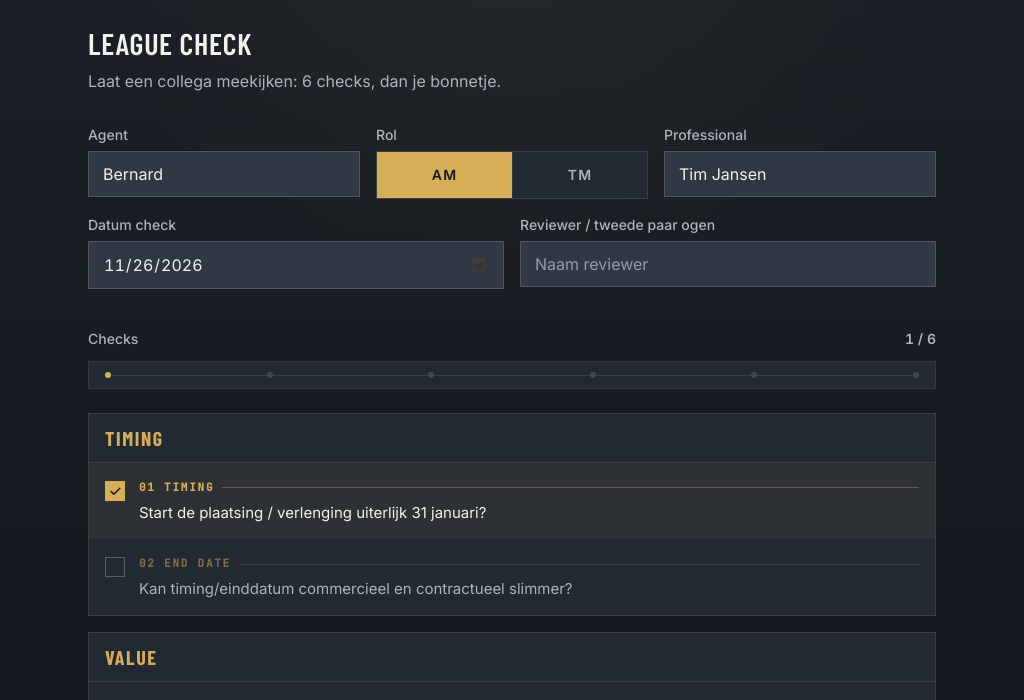
Test case: LeagueCheckPage — the receipt button is never gated on checked count › 6/6: the button reads Mission Approved — View Receipt, is enabled, and opens an Approved receipt
Earlier steps of the test are not shown.
Click the checkbox with id "end-date": (339, 577) top-left (105, 556), bottom-right (572, 598)
(page scrolled)
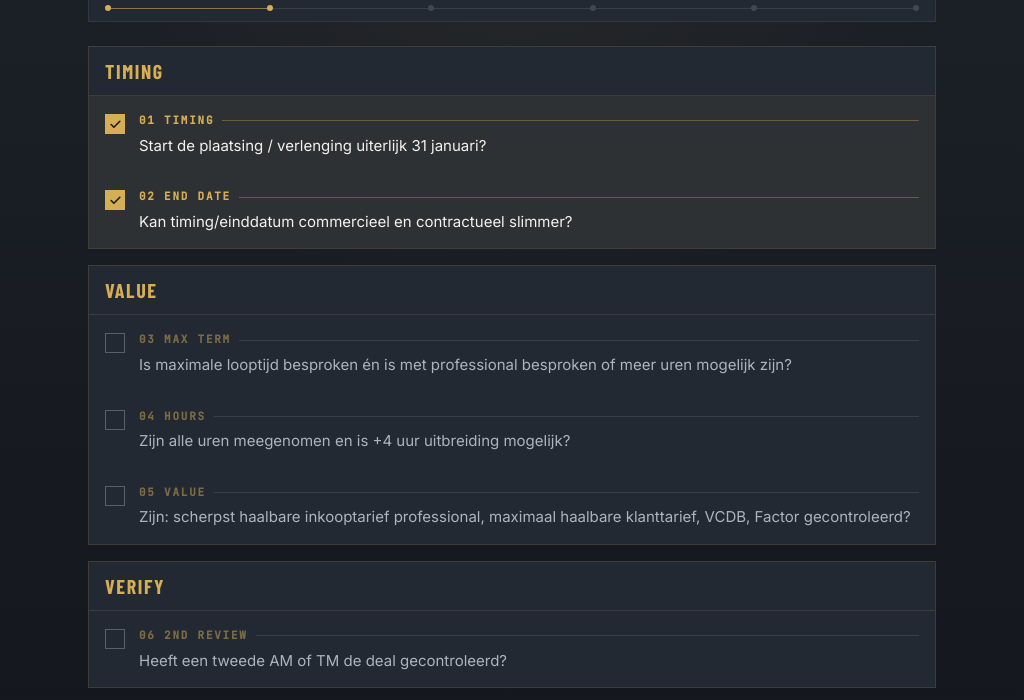
Click the checkbox with id "max-term": (448, 353) top-left (105, 332), bottom-right (792, 374)
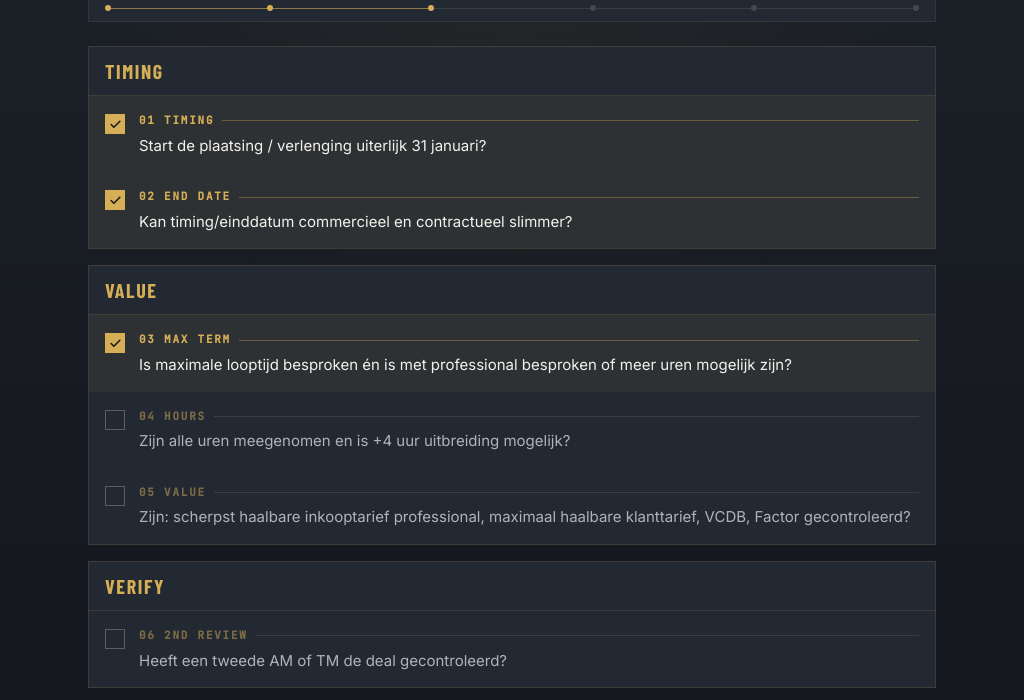
Click the checkbox with id "hours": (338, 430) top-left (105, 409), bottom-right (570, 450)
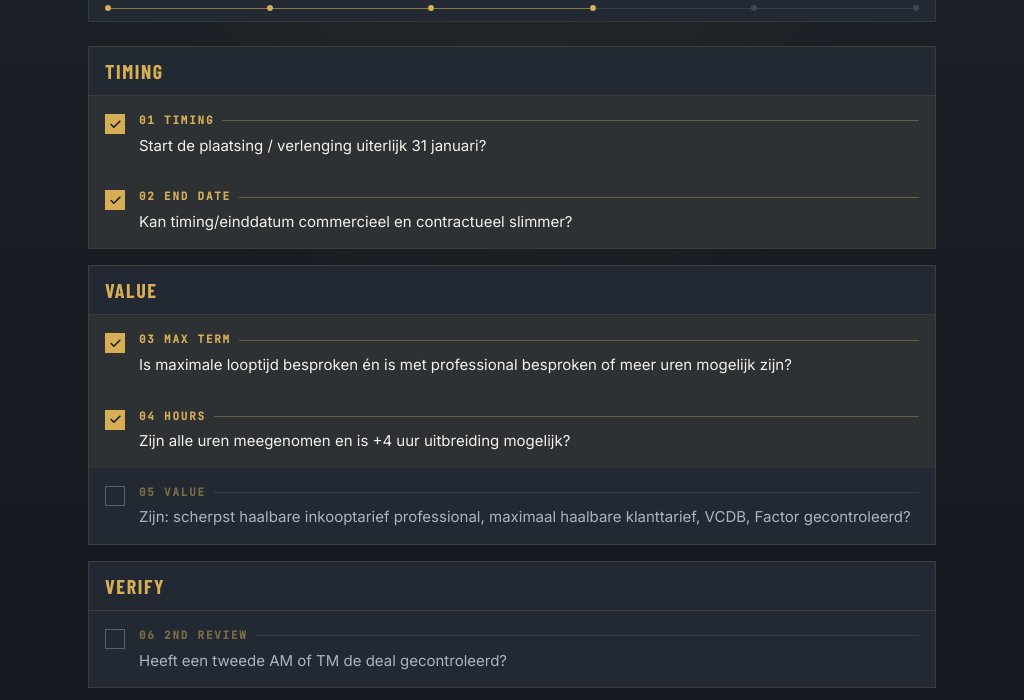
Click the checkbox that starts with "05 VALUE": (508, 506) top-left (105, 485), bottom-right (911, 526)
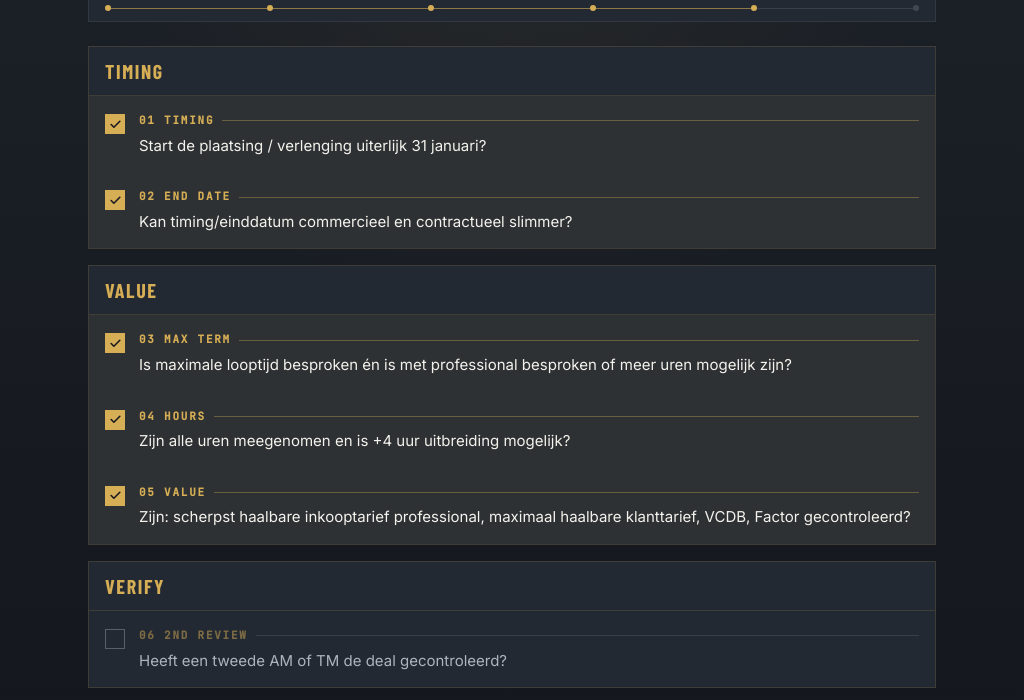
Click the checkbox with id "second-review": (306, 649) top-left (105, 628), bottom-right (507, 670)
(page scrolled)
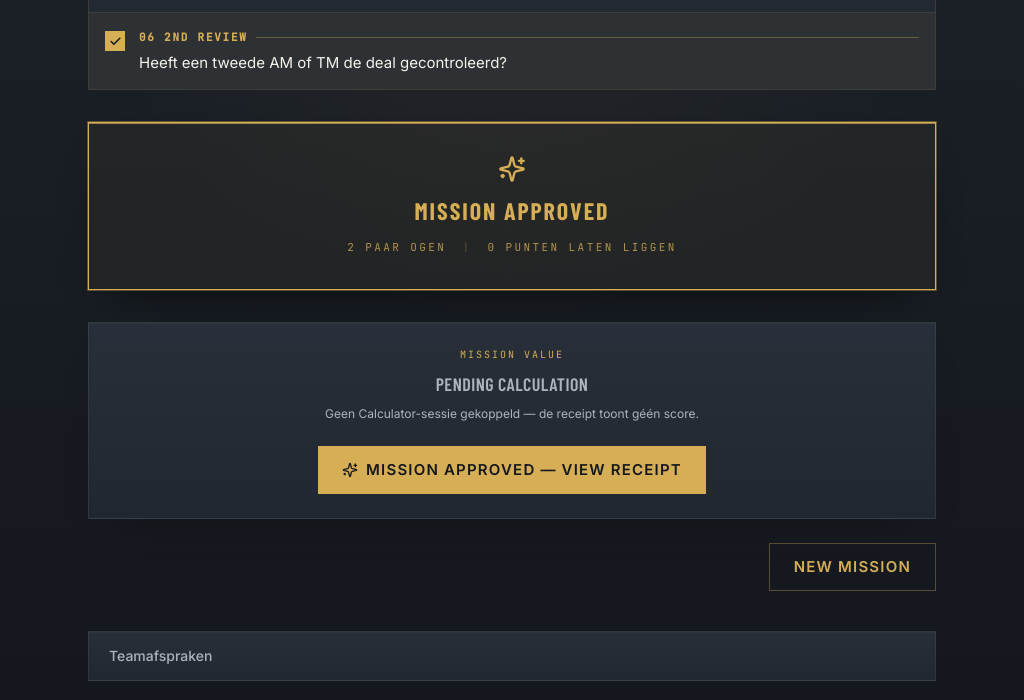
Click the button "Mission Approved — View Receipt": (512, 470) top-left (318, 446), bottom-right (706, 494)
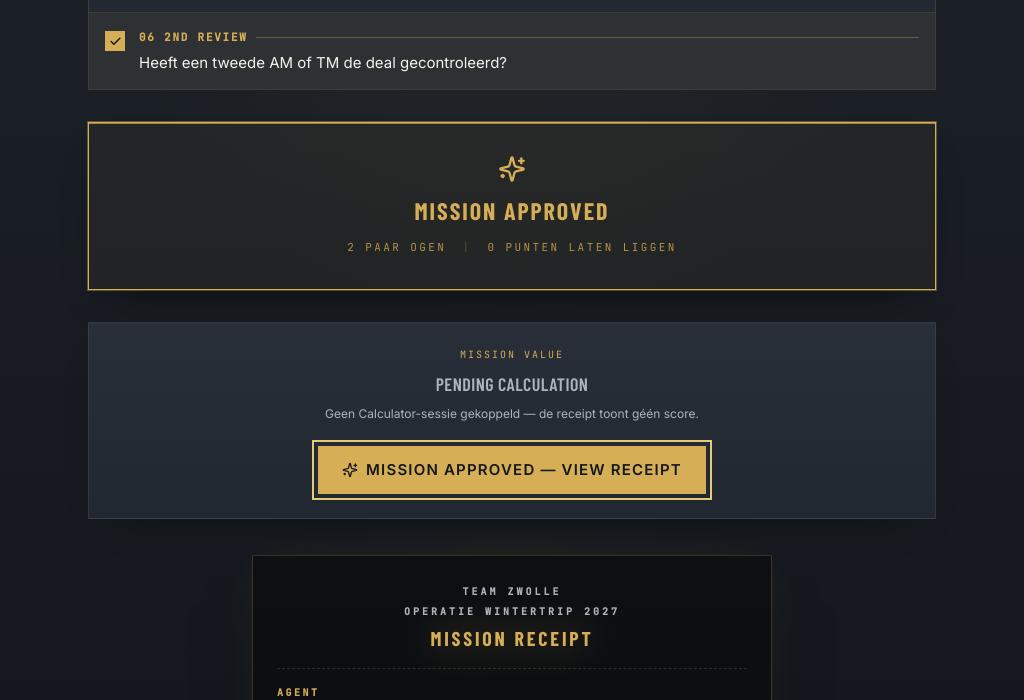
Expected: the text "Mission Receipt" is shown, top-left (430, 626), bottom-right (594, 650)
